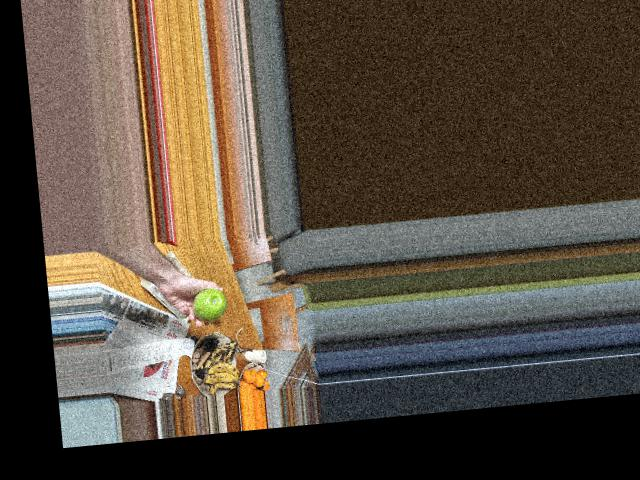apple: (190, 286, 228, 322)
